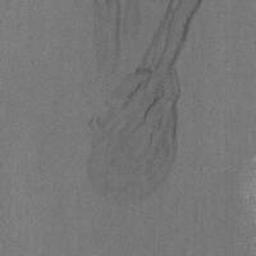Water spot: (83, 0, 202, 210), (92, 5, 124, 78), (132, 3, 142, 38)
